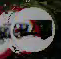Heavy Vehicles: (8, 3, 59, 57)
